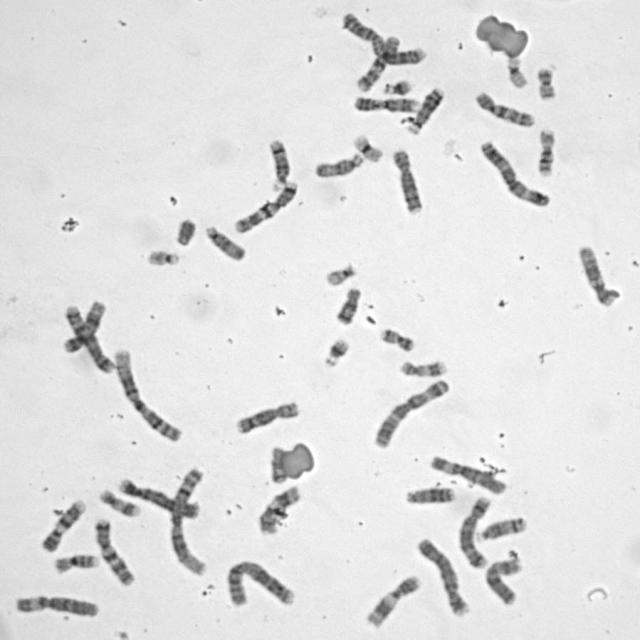A1: (111, 345, 184, 444), (165, 464, 210, 578)
A2: (338, 9, 428, 66), (222, 556, 297, 610)
A3: (370, 375, 454, 449), (476, 138, 551, 210)
B4: (414, 534, 473, 619), (115, 475, 202, 521)
B5: (61, 302, 117, 376), (456, 492, 493, 568)
C10: (354, 34, 402, 94), (472, 88, 536, 129)
C11: (361, 572, 422, 629), (256, 482, 303, 536)
C12: (576, 242, 620, 308), (59, 296, 107, 354)
C6: (427, 452, 508, 494), (11, 591, 102, 620)
C7: (230, 178, 300, 234), (92, 515, 137, 587)
C8: (232, 398, 300, 436), (389, 146, 425, 216)
C9: (38, 497, 88, 554), (351, 93, 422, 114)
D13: (404, 84, 446, 136), (402, 485, 457, 506)
D14: (474, 514, 528, 543), (265, 134, 292, 192)
D15: (203, 223, 248, 262), (311, 150, 366, 180)
E16: (50, 550, 100, 576), (534, 125, 557, 178)
E17: (95, 486, 142, 518), (397, 357, 449, 379)
E18: (332, 284, 364, 326), (267, 444, 287, 485)
F19: (350, 131, 385, 164), (504, 56, 529, 89)
F20: (376, 325, 416, 353), (533, 63, 558, 103)
G21: (319, 335, 352, 369), (379, 76, 416, 97)
G22: (322, 260, 359, 286), (142, 247, 182, 267)
X: (482, 555, 524, 607)
Y: (171, 215, 198, 247)
